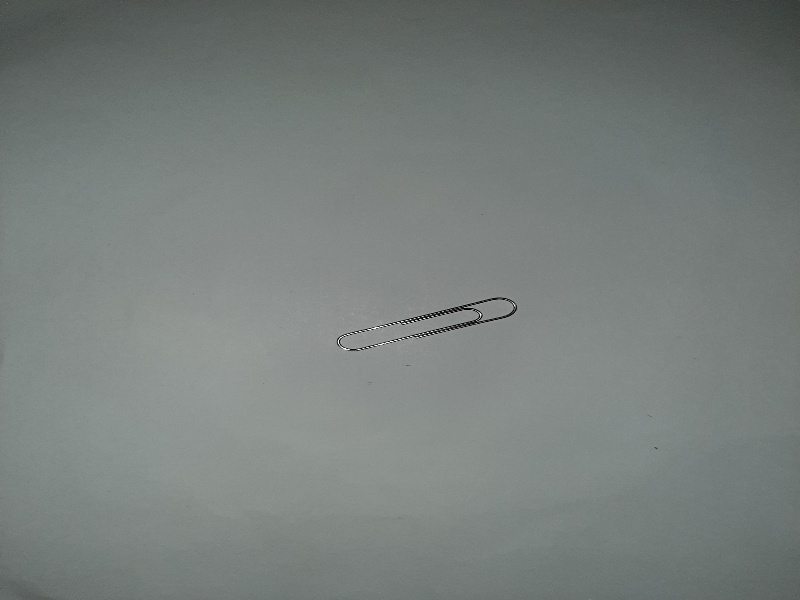Big Jumpclip: (330, 289, 527, 356)
